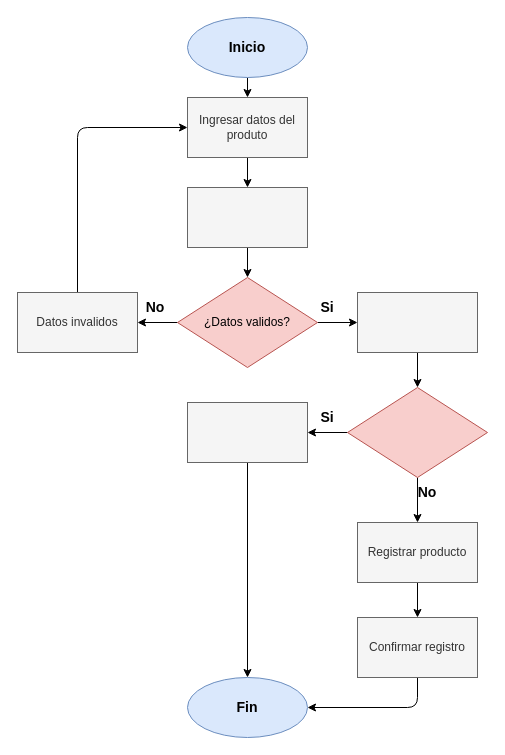
Image size: 505x755. Some labels were removed from this diagram. The shapes that lost their labels are listed below. From the top down, each one's centre as x and y in pixels, then its label:
the point at 247,217: Valiadar datos
the point at 417,322: Verificar existencia del producto
the point at 247,432: Ya existe el producto
the point at 417,432: ¿Existe producto?
